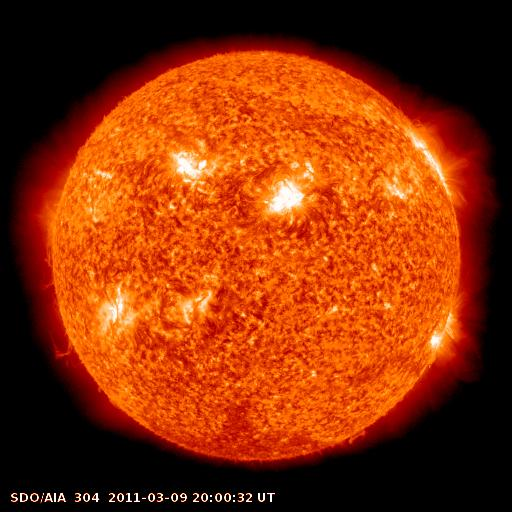prominence: (33, 317, 83, 371), (33, 229, 63, 296)
